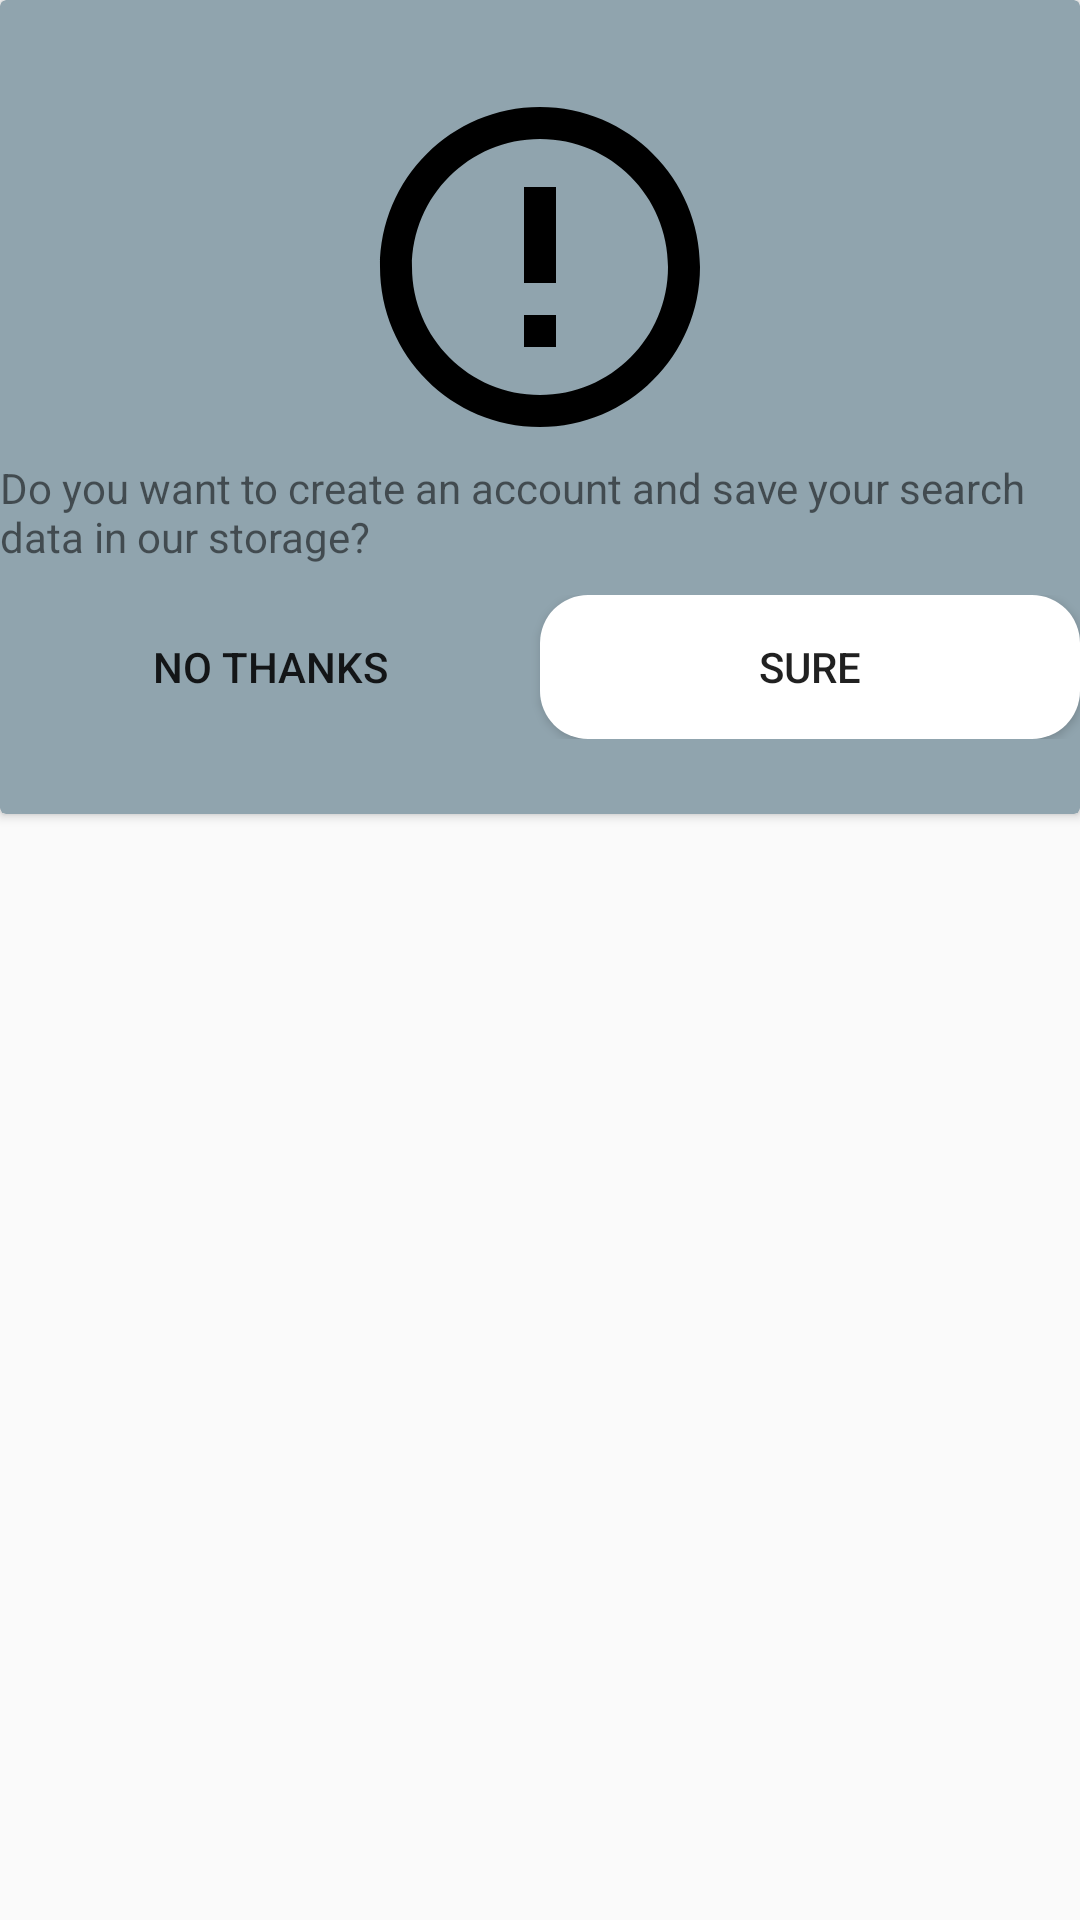

Named icons in this screenshot (1080px x 1920px) and their bounding boxes, detection(x1, y1, x2, y2):
error: detection(380, 107, 700, 427)
